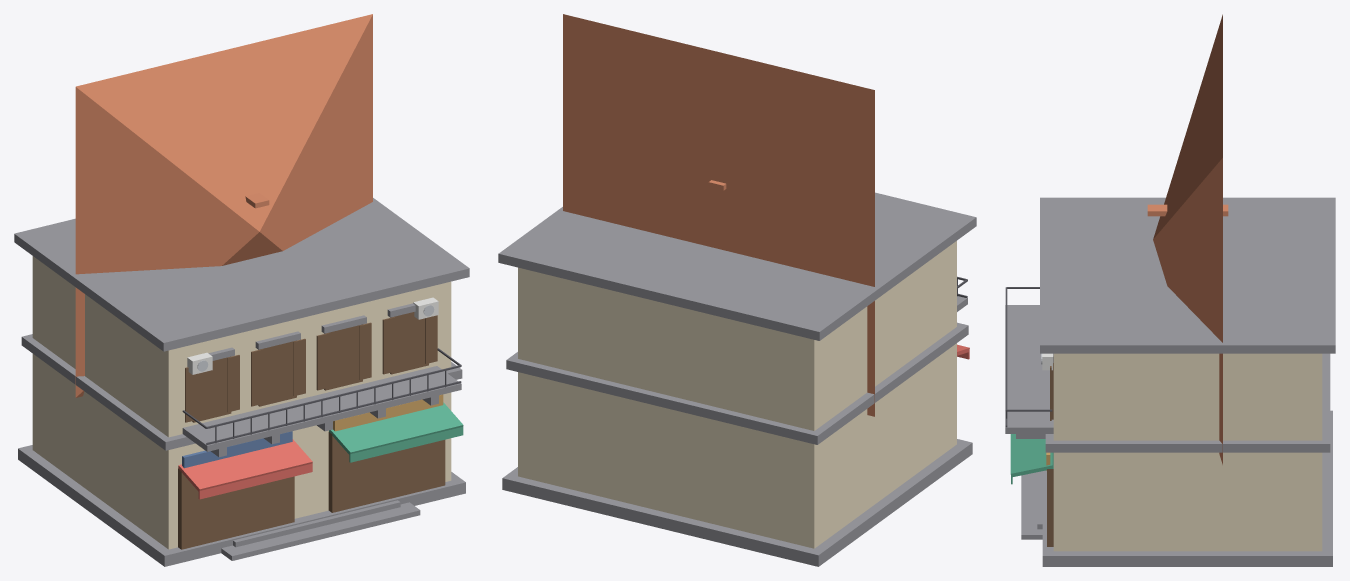
The model's file is building_coastal_arcade.glb.
3 renders of one model, left to right at view 1: azimuth 30°, elevation 25°; view 2: azimuth 150°, elevation 25°; view 3: azimuth 270°, elevation 25°, orthographic. The views are drawn at different scales.
Parts seen in each view (by area): view 1: Roof, Roof_Cornice, FF_Body, GF_Body, Balcony_Slab, Right_Shop_Frame, Left_Shop_Frame, Plinth, Awning, Awning.001, Floor_Cornice, Front_Step_1 (+19 smaller); view 2: Roof, GF_Body, FF_Body, Roof_Cornice, Plinth, Floor_Cornice; view 3: Roof_Cornice, GF_Body, FF_Body, Roof, Plinth, Balcony_Slab, Floor_Cornice, Awning.001, Front_Step_1, Right_Shop_Frame.
Boxes of the visible parts, box(x1,y1,x2,y2) form: Roof: box(75, 14, 372, 397); Roof_Cornice: box(14, 198, 469, 351); FF_Body: box(32, 256, 451, 437); GF_Body: box(32, 354, 451, 549); Balcony_Slab: box(182, 366, 461, 451); Right_Shop_Frame: box(328, 432, 445, 512); Left_Shop_Frame: box(178, 468, 294, 549); Plinth: box(18, 445, 465, 566); Awning: box(178, 439, 312, 491); Awning.001: box(329, 402, 463, 454); Floor_Cornice: box(21, 334, 462, 450); Front_Step_1: box(221, 502, 420, 560); Roof: box(563, 14, 874, 416); GF_Body: box(518, 343, 956, 548); FF_Body: box(518, 241, 956, 430); Roof_Cornice: box(498, 192, 976, 340); Plinth: box(502, 439, 972, 566); Floor_Cornice: box(506, 322, 968, 444); Roof_Cornice: box(1040, 197, 1335, 353); GF_Body: box(1053, 452, 1322, 551); FF_Body: box(1053, 353, 1322, 440); Roof: box(1153, 14, 1222, 464); Plinth: box(1042, 410, 1332, 566); Balcony_Slab: box(1005, 305, 1053, 433); Floor_Cornice: box(1045, 353, 1330, 452); Awning.001: box(1010, 434, 1053, 477); Front_Step_1: box(1021, 472, 1042, 539); Right_Shop_Frame: box(1047, 469, 1053, 546).
Bounding box in the file's own units: 13 × 16.77 × 12.3.
